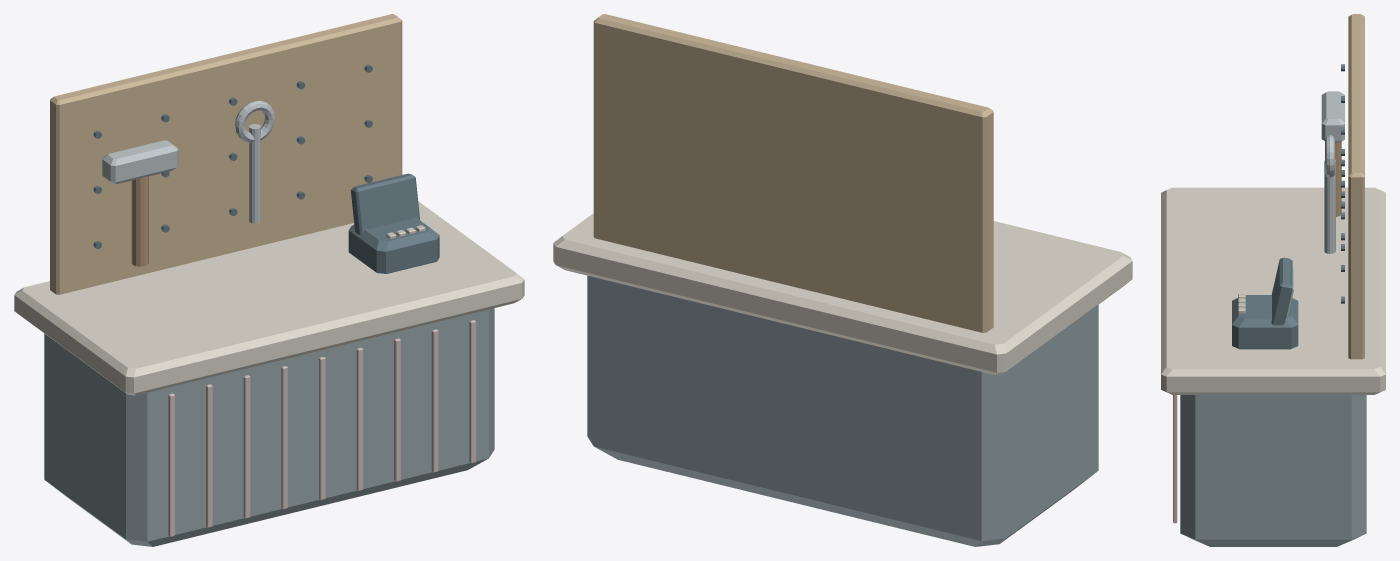
Rendered from parts_counter.glb.
The picture shows the model from 3 angles, left to right: view 1: azimuth 30°, elevation 25°; view 2: azimuth 150°, elevation 25°; view 3: azimuth 270°, elevation 25°; orthographic projection. The views are drawn at different scales.
Visible parts, largest first — view 1: parts_counter; view 2: parts_counter; view 3: parts_counter.
Part boxes in pixels (bbox=[...]): parts_counter: bbox=[14, 14, 524, 546]; parts_counter: bbox=[553, 14, 1132, 546]; parts_counter: bbox=[1161, 14, 1385, 546].
Size of the model in its own units: 2.65 by 2.47 by 1.35.
